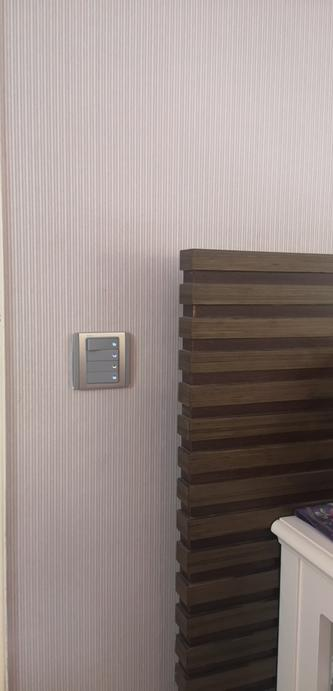switch: (85, 335, 123, 351), (83, 351, 125, 363), (83, 372, 123, 384), (81, 363, 127, 373)
